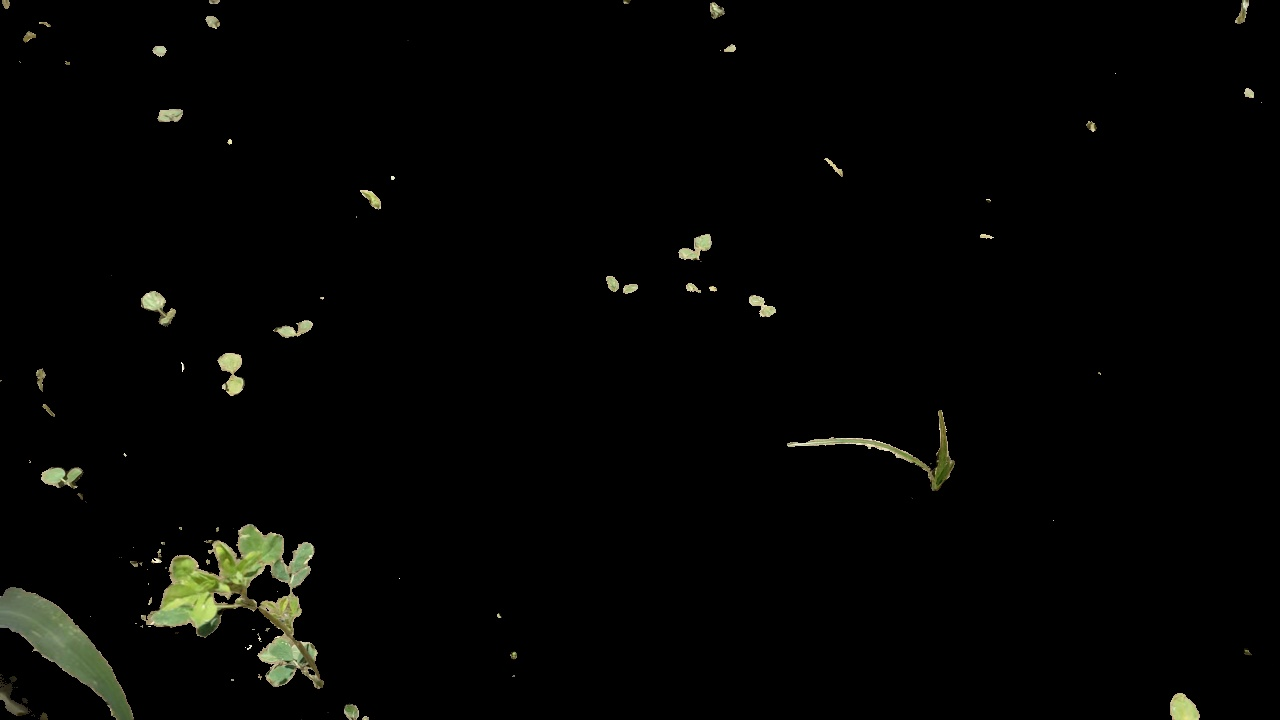crop: (1, 564, 133, 720)
weed: (146, 507, 332, 704), (774, 398, 960, 503), (668, 226, 724, 267), (217, 353, 249, 405), (138, 287, 183, 323), (741, 290, 783, 319), (597, 272, 647, 294), (274, 321, 326, 342), (41, 464, 87, 487), (356, 182, 387, 213), (685, 277, 717, 303)
